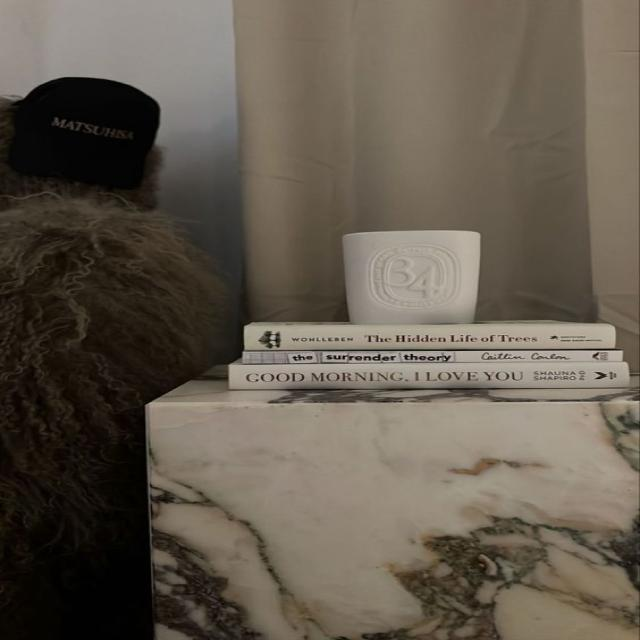book: (244, 322, 615, 351), (230, 363, 628, 387), (246, 351, 624, 361)
candle: (343, 231, 479, 324)
